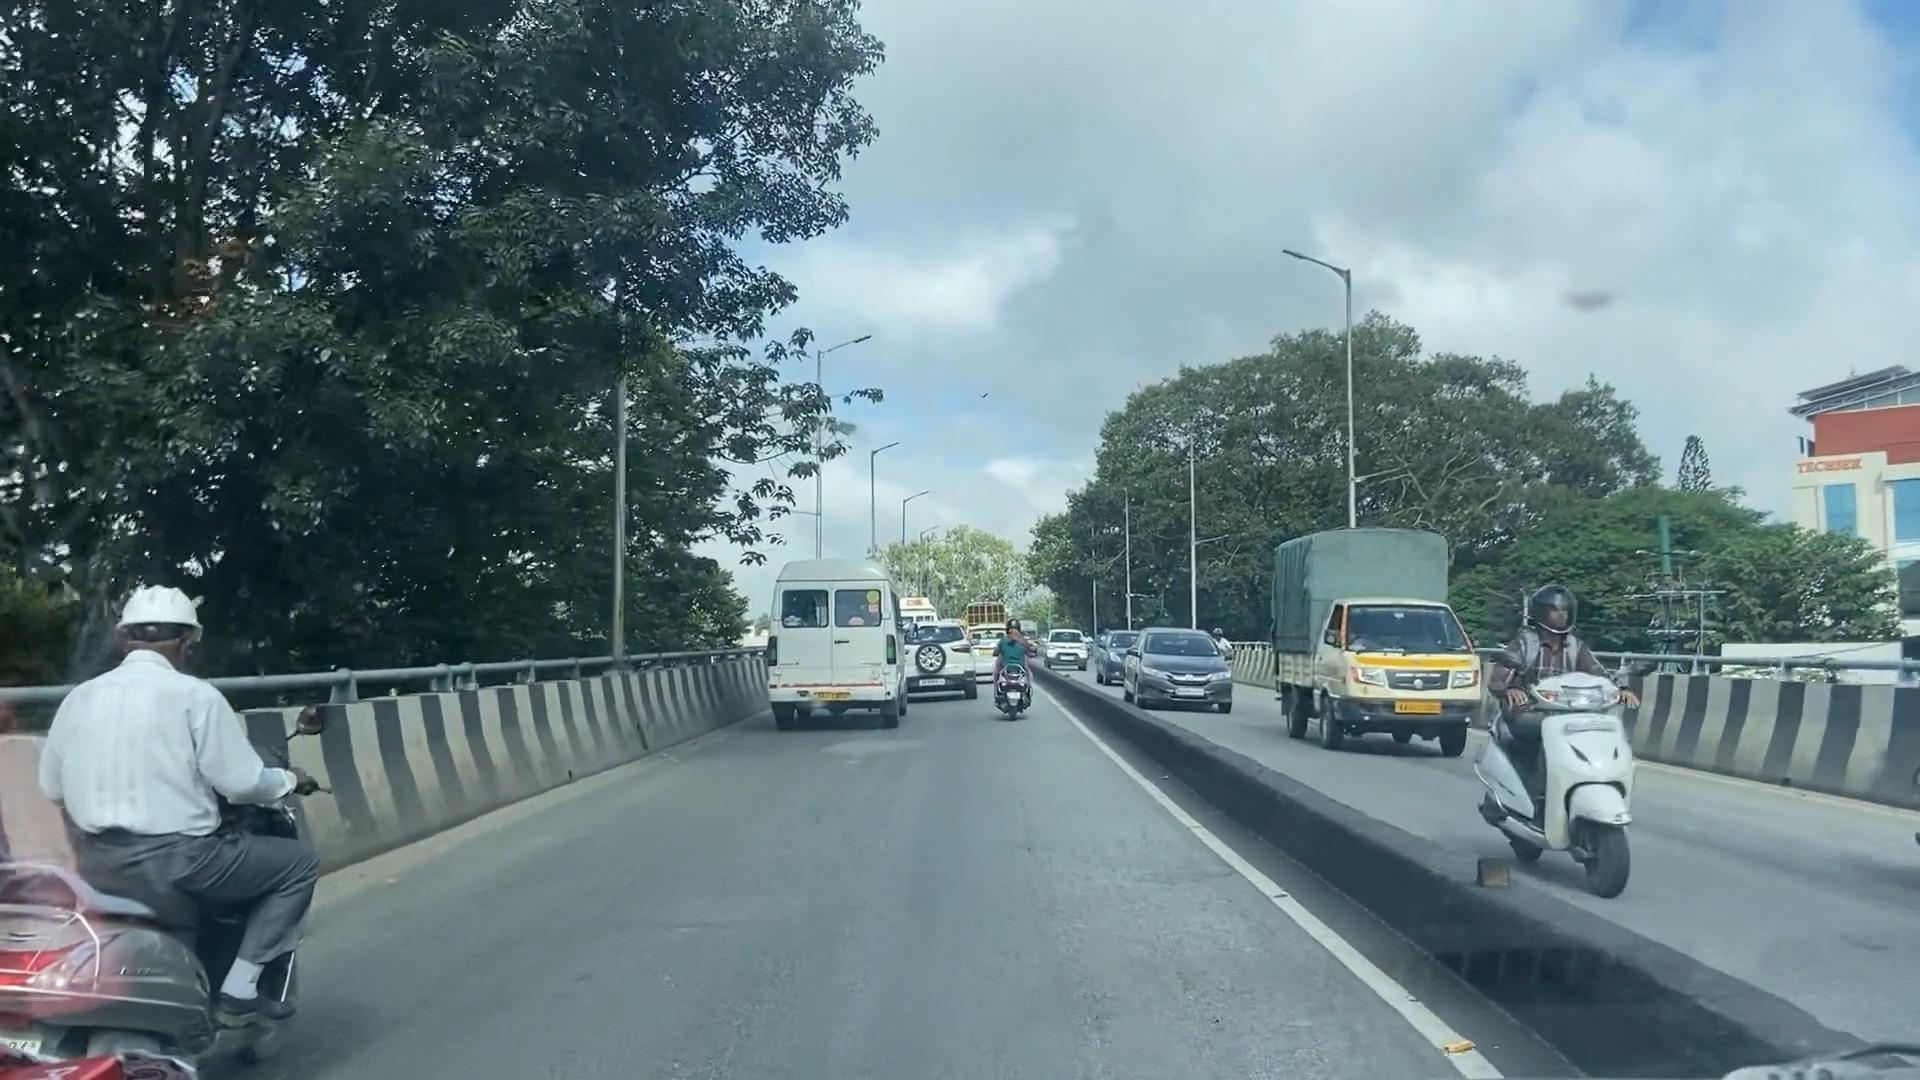HMV: (773, 576, 899, 716)
LMV: (46, 570, 294, 1076), (997, 615, 1030, 720)
